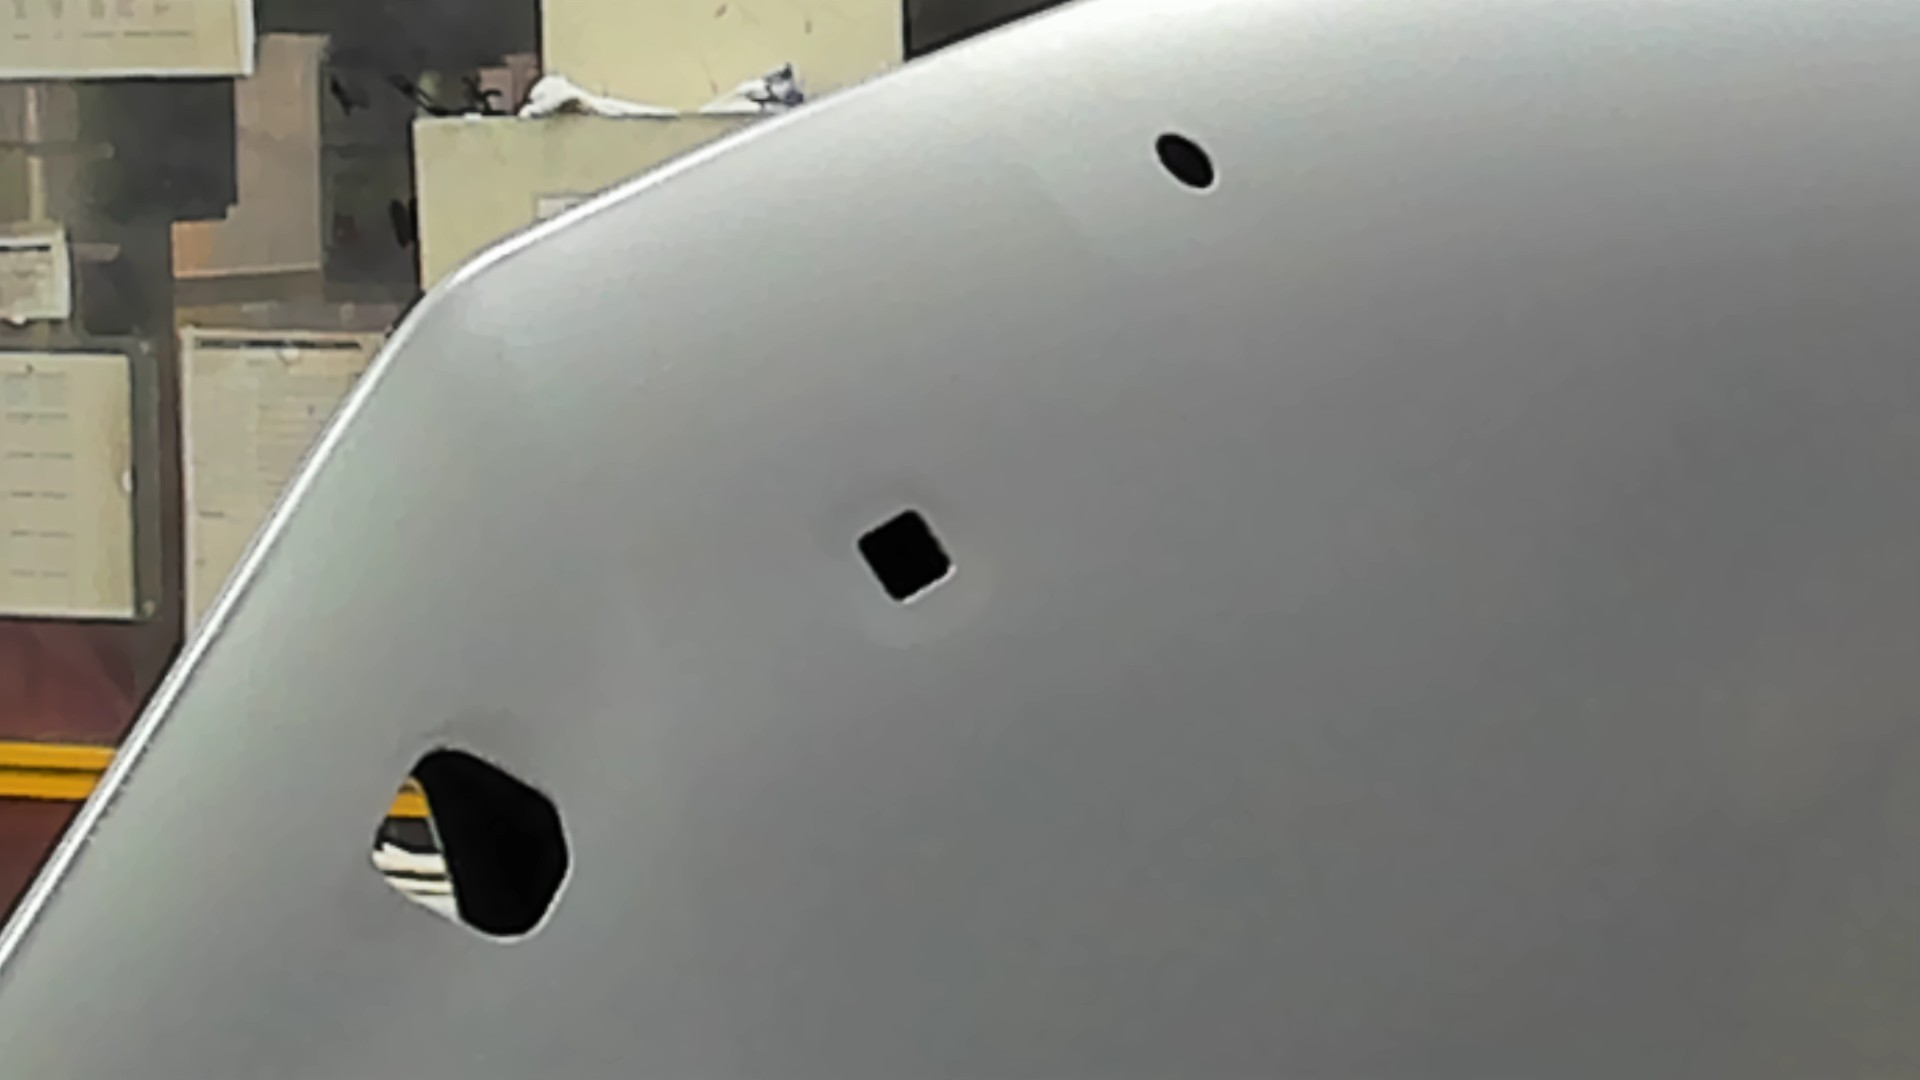chico: (1149, 125, 1218, 196)
grande: (367, 745, 578, 953)
mediano: (851, 502, 959, 611)
